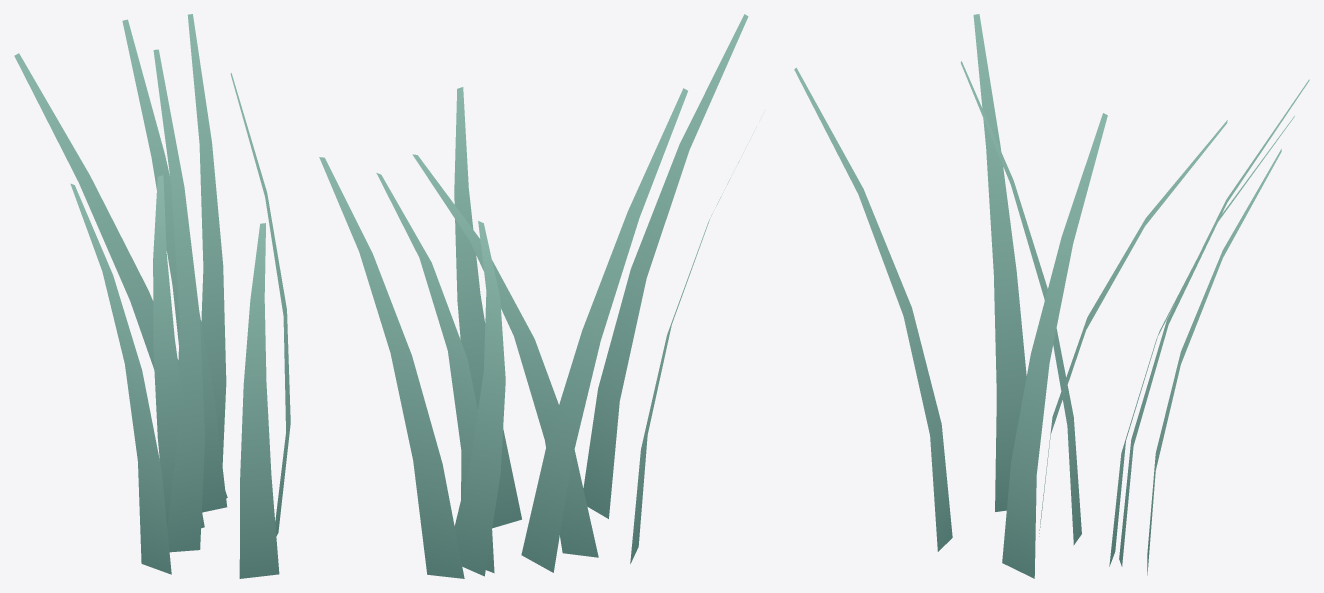
Rendered from grass_teal.glb.
3 renders of one model, left to right at view 1: azimuth 30°, elevation 25°; view 2: azimuth 150°, elevation 25°; view 3: azimuth 270°, elevation 25°, orthographic. The views are drawn at different scales.
Parts seen in each view (by area): view 1: Tuft; view 2: Tuft; view 3: Tuft.
Boxes of the visible parts, <box> form: Tuft: <box>14,14,290,578</box>; Tuft: <box>319,14,756,578</box>; Tuft: <box>794,14,1309,578</box>.
Size of the model in its own units: 0.4597 by 0.7238 by 0.7349.
